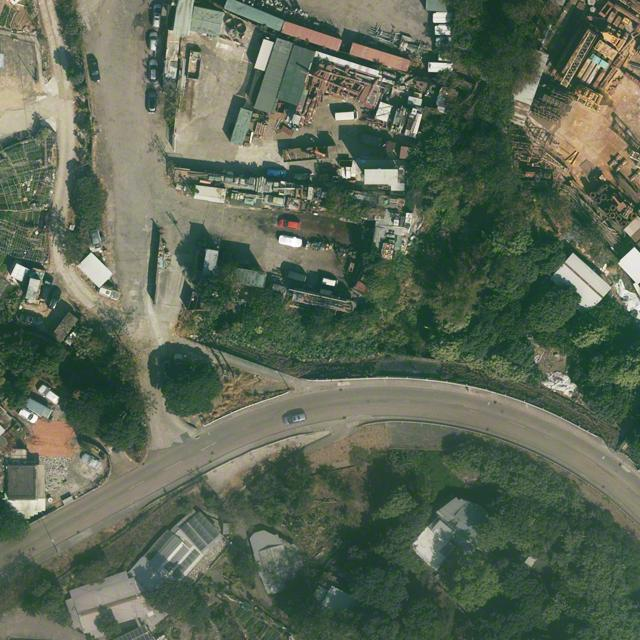SolarPanel: (180, 511, 220, 551), (172, 549, 200, 580), (130, 625, 148, 639)
